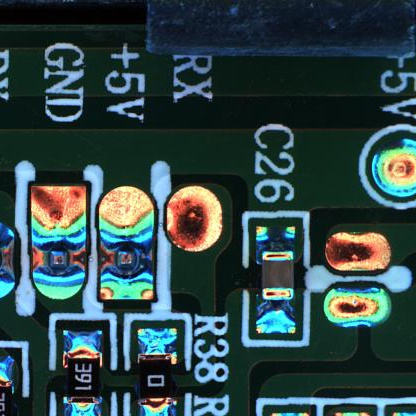spot: (91, 180, 161, 304), (25, 175, 92, 301), (163, 181, 228, 252), (320, 227, 396, 277), (322, 280, 397, 327)
